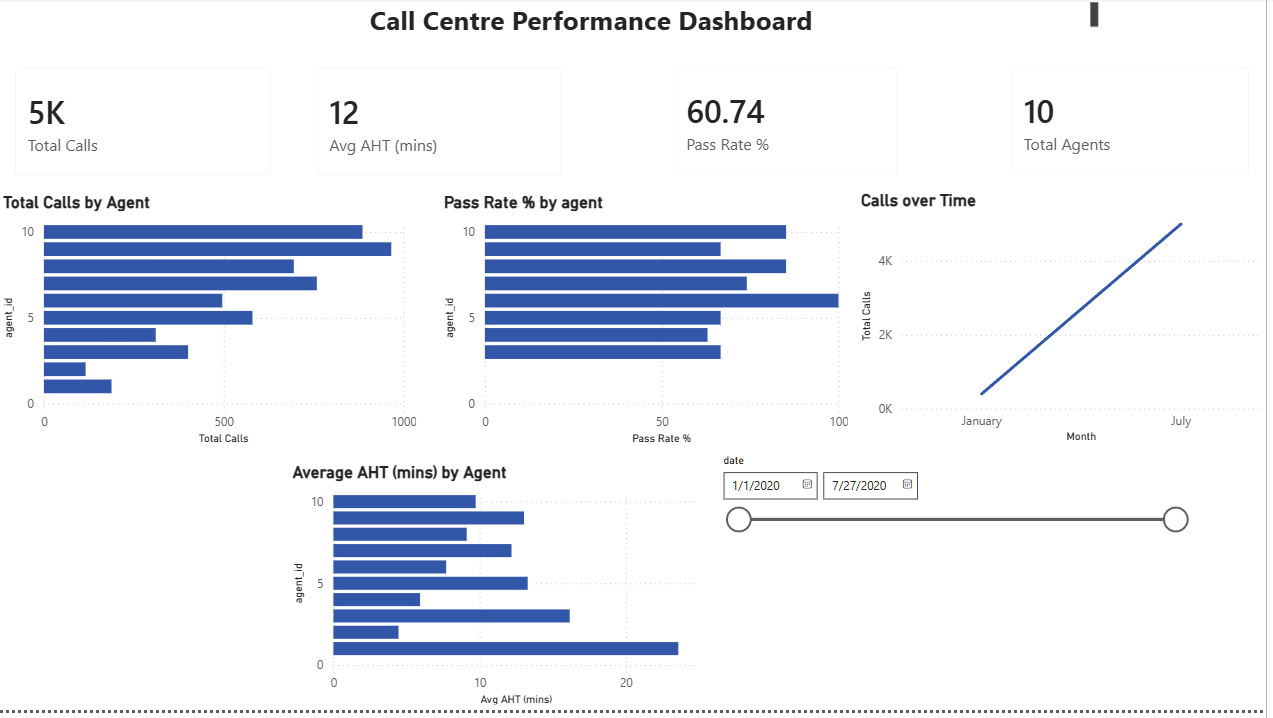

This screenshot's page, from the dashboard's own definition file:
{"tool":"powerbi","page":{"name":"call_centre_performance_dashboard","canvas":[1280,720],"ordinal":0},"visuals":[{"type":"cardVisual","fields":{"Data":["callcenter_clean.Total Agents"]},"box":[1005.4,53,274.1,143.8],"z":0},{"type":"cardVisual","fields":{"Data":["callcenter_clean.Total Calls"]},"box":[0,54.5,292.2,142.3],"z":1000},{"type":"cardVisual","fields":{"Data":["callcenter_clean.Pass Rate %"]},"box":[664.7,53,260.4,142.3],"z":2000},{"type":"cardVisual","fields":{"Data":["callcenter_clean.Avg AHT (mins)"]},"box":[304.4,54.5,281.6,142.3],"z":3000},{"type":"clusteredBarChart","title":"Total Calls by Agent","fields":{"Category":["callcenter_clean.agent_id"],"Y":["callcenter_clean.Total Calls"]},"box":[0,196.8,427,258.9],"z":4000},{"type":"clusteredBarChart","title":"Pass Rate % by agent","fields":{"Category":["callcenter_clean.agent_id"],"Y":["callcenter_clean.Pass Rate %"]},"box":[445.2,196.8,417.9,258.9],"z":5000},{"type":"lineChart","title":"Calls over Time","fields":{"Y":["callcenter_clean.Total Calls"],"Category":["callcenter_clean.date.Variation.Date Hierarchy.Month"]},"box":[866.1,195.3,413.4,258.9],"z":6000},{"type":"slicer","fields":{"Values":["callcenter_clean.date"]},"box":[719.2,455.8,490.6,136.3],"z":7000},{"type":"clusteredBarChart","title":"Average AHT (mins) by Agent","fields":{"Category":["callcenter_clean.agent_id"],"Y":["callcenter_clean.Avg AHT (mins)"]},"box":[292.2,469.4,427,249.8],"z":8000},{"type":"textbox","box":[89.3,0,1026.6,39.4],"z":9000}]}

Visuals, with their boxes in screenshot pixels (x1, y1, x2, y2), scaled from the page's 1280x720 canvas onto the 1273x718 screenshot:
cardVisual - callcenter_clean.Total Agents: (x1=1000, y1=53, x2=1272, y2=196)
cardVisual - callcenter_clean.Total Calls: (x1=0, y1=54, x2=291, y2=196)
cardVisual - callcenter_clean.Pass Rate %: (x1=661, y1=53, x2=920, y2=195)
cardVisual - callcenter_clean.Avg AHT (mins): (x1=303, y1=54, x2=583, y2=196)
"Total Calls by Agent" clusteredBarChart: (x1=0, y1=196, x2=425, y2=454)
"Pass Rate % by agent" clusteredBarChart: (x1=443, y1=196, x2=858, y2=454)
"Calls over Time" lineChart: (x1=861, y1=195, x2=1272, y2=453)
slicer - callcenter_clean.date: (x1=715, y1=455, x2=1203, y2=590)
"Average AHT (mins) by Agent" clusteredBarChart: (x1=291, y1=468, x2=715, y2=717)
textbox: (x1=89, y1=0, x2=1110, y2=39)
